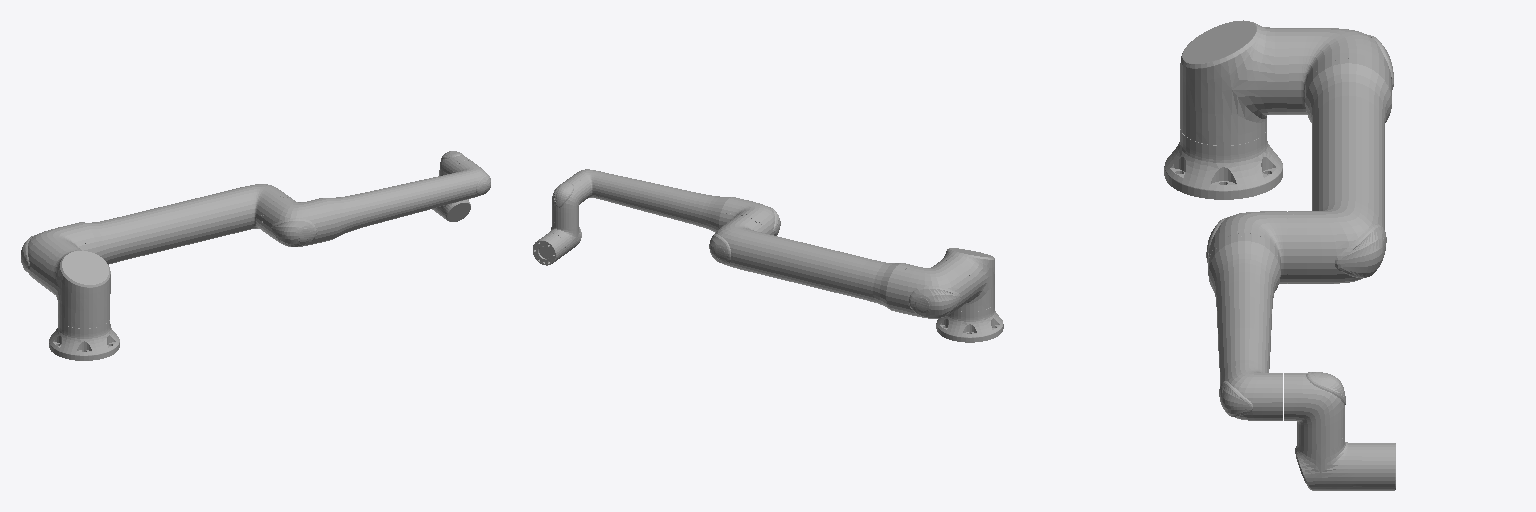
The robot description file, URDF, robot "ur20_robot":
<?xml version="1.0" ?>
<!-- =================================================================================== -->
<!-- |    This document was autogenerated by xacro from ur20.xacro                     | -->
<!-- |    EDITING THIS FILE BY HAND IS NOT RECOMMENDED                                 | -->
<!-- =================================================================================== -->
<robot name="ur20_robot">
  <!--
    Base UR robot series xacro macro.

    NOTE: this is NOT a URDF. It cannot directly be loaded by consumers
    expecting a flattened '.urdf' file. See the top-level '.xacro' for that
    (but note: that .xacro must still be processed by the xacro command).

    For use in '.launch' files: use one of the 'load_urX.launch' convenience
    launch files.

    This file models the base kinematic chain of a UR robot, which then gets
    parameterised by various configuration files to convert it into a UR3(e),
    UR5(e), UR7e, UR10(e), UR12e UR16e, UR15, UR20 or UR30.

    NOTE: the default kinematic parameters (ie: link lengths, frame locations,
    offets, etc) do not correspond to any particular robot. They are defaults
    only. There WILL be non-zero offsets between the Forward Kinematics results
    in TF (ie: robot_state_publisher) and the values reported by the Teach
    Pendant.

    For accurate (and robot-specific) transforms, the 'kinematics_parameters_file'
    parameter MUST point to a .yaml file containing the appropriate values for
    the targetted robot.

    If using the UniversalRobots/Universal_Robots_ROS_Driver, follow the steps
    described in the readme of that repository to extract the kinematic
    calibration from the controller and generate the required .yaml file.

    Main author of the migration to yaml configs: Ludovic Delval.

    Contributors to previous versions (in no particular order):

     - Felix Messmer
     - Kelsey Hawkins
     - Wim Meeussen
     - Shaun Edwards
     - Nadia Hammoudeh Garcia
     - Dave Hershberger
     - G. vd. Hoorn
     - Philip Long
     - Dave Coleman
     - Miguel Prada
     - Mathias Luedtke
     - Marcel Schnirring
     - Felix von Drigalski
     - Felix Exner
     - Jimmy Da Silva
     - Ajit Krisshna N L
     - Muhammad Asif Rana
  -->
  <!--
    NOTE: the macro defined in this file is NOT part of the public API of this
          package. Users CANNOT rely on this file being available, or stored in
          this location. Nor can they rely on the existence of the macro.
  -->
  <transmission name="shoulder_pan_trans">
    <type>transmission_interface/SimpleTransmission</type>
    <joint name="shoulder_pan_joint">
      <hardwareInterface>hardware_interface/PositionJointInterface</hardwareInterface>
    </joint>
    <actuator name="shoulder_pan_motor">
      <mechanicalReduction>1</mechanicalReduction>
    </actuator>
  </transmission>
  <transmission name="shoulder_lift_trans">
    <type>transmission_interface/SimpleTransmission</type>
    <joint name="shoulder_lift_joint">
      <hardwareInterface>hardware_interface/PositionJointInterface</hardwareInterface>
    </joint>
    <actuator name="shoulder_lift_motor">
      <mechanicalReduction>1</mechanicalReduction>
    </actuator>
  </transmission>
  <transmission name="elbow_trans">
    <type>transmission_interface/SimpleTransmission</type>
    <joint name="elbow_joint">
      <hardwareInterface>hardware_interface/PositionJointInterface</hardwareInterface>
    </joint>
    <actuator name="elbow_motor">
      <mechanicalReduction>1</mechanicalReduction>
    </actuator>
  </transmission>
  <transmission name="wrist_1_trans">
    <type>transmission_interface/SimpleTransmission</type>
    <joint name="wrist_1_joint">
      <hardwareInterface>hardware_interface/PositionJointInterface</hardwareInterface>
    </joint>
    <actuator name="wrist_1_motor">
      <mechanicalReduction>1</mechanicalReduction>
    </actuator>
  </transmission>
  <transmission name="wrist_2_trans">
    <type>transmission_interface/SimpleTransmission</type>
    <joint name="wrist_2_joint">
      <hardwareInterface>hardware_interface/PositionJointInterface</hardwareInterface>
    </joint>
    <actuator name="wrist_2_motor">
      <mechanicalReduction>1</mechanicalReduction>
    </actuator>
  </transmission>
  <transmission name="wrist_3_trans">
    <type>transmission_interface/SimpleTransmission</type>
    <joint name="wrist_3_joint">
      <hardwareInterface>hardware_interface/PositionJointInterface</hardwareInterface>
    </joint>
    <actuator name="wrist_3_motor">
      <mechanicalReduction>1</mechanicalReduction>
    </actuator>
  </transmission>
  <!-- links: main serial chain -->
  <link name="base_link"/>
  <link name="base_link_inertia">
    <visual>
      <origin rpy="0 0 3.141592653589793" xyz="0 0 0"/>
      <geometry>
        <mesh filename="package://example-robot-data/robots/universal_robots/meshes_description/ur20/visual/base.dae"/>
      </geometry>
      <material name="LightGrey">
        <color rgba="0.7 0.7 0.7 1.0"/>
      </material>
    </visual>
    <collision>
      <origin rpy="0 0 3.141592653589793" xyz="0 0 0"/>
      <geometry>
        <mesh filename="package://example-robot-data/robots/universal_robots/meshes_description/ur20/collision/base.stl"/>
      </geometry>
    </collision>
    <inertial>
      <mass value="4.0"/>
      <origin rpy="0 0 0" xyz="0 0 0"/>
      <inertia ixx="0.0061063308908" ixy="0.0" ixz="0.0" iyy="0.0061063308908" iyz="0.0" izz="0.01125"/>
    </inertial>
  </link>
  <link name="shoulder_link">
    <visual>
      <origin rpy="0 0 3.141592653589793" xyz="0 0 0"/>
      <geometry>
        <mesh filename="package://example-robot-data/robots/universal_robots/meshes_description/ur20/visual/shoulder.dae"/>
      </geometry>
      <material name="LightGrey">
        <color rgba="0.7 0.7 0.7 1.0"/>
      </material>
    </visual>
    <collision>
      <origin rpy="0 0 3.141592653589793" xyz="0 0 0"/>
      <geometry>
        <mesh filename="package://example-robot-data/robots/universal_robots/meshes_description/ur20/collision/shoulder.stl"/>
      </geometry>
    </collision>
    <inertial>
      <mass value="16.343"/>
      <origin rpy="1.570796326794897 0 0" xyz="0.0 -0.0062 -0.061"/>
      <inertia ixx="0.08866" ixy="-0.00011" ixz="-0.00011" iyy="0.07632" iyz="0.0072" izz="0.08418"/>
    </inertial>
  </link>
  <link name="upper_arm_link">
    <visual>
      <origin rpy="1.5707963267948966 0 -1.5707963267948966" xyz="0 0 0.26"/>
      <geometry>
        <mesh filename="package://example-robot-data/robots/universal_robots/meshes_description/ur20/visual/upperarm.dae"/>
      </geometry>
      <material name="LightGrey">
        <color rgba="0.7 0.7 0.7 1.0"/>
      </material>
    </visual>
    <collision>
      <origin rpy="1.5707963267948966 0 -1.5707963267948966" xyz="0 0 0.26"/>
      <geometry>
        <mesh filename="package://example-robot-data/robots/universal_robots/meshes_description/ur20/collision/upperarm.stl"/>
      </geometry>
    </collision>
    <inertial>
      <mass value="29.632"/>
      <origin rpy="0 0 0" xyz="-0.3394 0.0 0.2098"/>
      <inertia ixx="0.1467" ixy="0.00019" ixz="-0.05163" iyy="4.6659" iyz="4e-05" izz="4.6348"/>
    </inertial>
  </link>
  <link name="forearm_link">
    <visual>
      <origin rpy="1.5707963267948966 0 -1.5707963267948966" xyz="0 0 0.043"/>
      <geometry>
        <mesh filename="package://example-robot-data/robots/universal_robots/meshes_description/ur20/visual/forearm.dae"/>
      </geometry>
      <material name="LightGrey">
        <color rgba="0.7 0.7 0.7 1.0"/>
      </material>
    </visual>
    <collision>
      <origin rpy="1.5707963267948966 0 -1.5707963267948966" xyz="0 0 0.043"/>
      <geometry>
        <mesh filename="package://example-robot-data/robots/universal_robots/meshes_description/ur20/collision/forearm.stl"/>
      </geometry>
    </collision>
    <inertial>
      <mass value="7.879"/>
      <origin rpy="0 0 0" xyz="-0.4053 0.0 0.0604"/>
      <inertia ixx="0.02612" ixy="-5e-05" ixz="-0.02898" iyy="0.75763" iyz="-1e-05" izz="0.75327"/>
    </inertial>
  </link>
  <link name="wrist_1_link">
    <visual>
      <!-- TODO: Move this to a parameter -->
      <origin rpy="1.5707963267948966 0 0" xyz="0 0 -0.0775"/>
      <geometry>
        <mesh filename="package://example-robot-data/robots/universal_robots/meshes_description/ur20/visual/wrist1.dae"/>
      </geometry>
      <material name="LightGrey">
        <color rgba="0.7 0.7 0.7 1.0"/>
      </material>
    </visual>
    <collision>
      <origin rpy="1.5707963267948966 0 0" xyz="0 0 -0.0775"/>
      <geometry>
        <mesh filename="package://example-robot-data/robots/universal_robots/meshes_description/ur20/collision/wrist1.stl"/>
      </geometry>
    </collision>
    <inertial>
      <mass value="3.054"/>
      <origin rpy="1.570796326794897 0 0" xyz="0.0 -0.0393 -0.0026"/>
      <inertia ixx="0.00555" ixy="-1e-05" ixz="-2e-05" iyy="0.00537" iyz="0.00036" izz="0.00402"/>
    </inertial>
  </link>
  <link name="wrist_2_link">
    <visual>
      <origin rpy="0 0 0" xyz="0 0 -0.0749"/>
      <geometry>
        <mesh filename="package://example-robot-data/robots/universal_robots/meshes_description/ur20/visual/wrist2.dae"/>
      </geometry>
      <material name="LightGrey">
        <color rgba="0.7 0.7 0.7 1.0"/>
      </material>
    </visual>
    <collision>
      <origin rpy="0 0 0" xyz="0 0 -0.0749"/>
      <geometry>
        <mesh filename="package://example-robot-data/robots/universal_robots/meshes_description/ur20/collision/wrist2.stl"/>
      </geometry>
    </collision>
    <inertial>
      <mass value="3.126"/>
      <origin rpy="-1.570796326794897 0 0" xyz="0.0 0.0379 -0.0024"/>
      <inertia ixx="0.00586" ixy="-1e-05" ixz="-2e-05" iyy="0.00578" iyz="-0.00037" izz="0.00427"/>
    </inertial>
  </link>
  <link name="wrist_3_link">
    <visual>
      <origin rpy="1.5707963267948966 0 0" xyz="0 0 -0.07"/>
      <geometry>
        <mesh filename="package://example-robot-data/robots/universal_robots/meshes_description/ur20/visual/wrist3.dae"/>
      </geometry>
      <material name="LightGrey">
        <color rgba="0.7 0.7 0.7 1.0"/>
      </material>
    </visual>
    <collision>
      <origin rpy="1.5707963267948966 0 0" xyz="0 0 -0.07"/>
      <geometry>
        <mesh filename="package://example-robot-data/robots/universal_robots/meshes_description/ur20/collision/wrist3.stl"/>
      </geometry>
    </collision>
    <inertial>
      <mass value="0.926"/>
      <origin rpy="0 0 0" xyz="0.0 0.0 -0.0293"/>
      <inertia ixx="0.00092" ixy="0.0" ixz="0.0" iyy="0.00091" iyz="0.0" izz="0.00117"/>
    </inertial>
  </link>
  <!-- joints: main serial chain -->
  <joint name="base_link-base_link_inertia" type="fixed">
    <parent link="base_link"/>
    <child link="base_link_inertia"/>
    <!-- 'base_link' is REP-103 aligned (so X+ forward), while the internal
           frames of the robot/controller have X+ pointing backwards.
           Use the joint between 'base_link' and 'base_link_inertia' (a dummy
           link/frame) to introduce the necessary rotation over Z (of pi rad).
      -->
    <origin rpy="0 0 3.141592653589793" xyz="0 0 0"/>
  </joint>
  <joint name="shoulder_pan_joint" type="revolute">
    <parent link="base_link_inertia"/>
    <child link="shoulder_link"/>
    <origin rpy="0 0 0" xyz="0 0 0.2363"/>
    <axis xyz="0 0 1"/>
    <limit effort="738.0" lower="-6.283185307179586" upper="6.283185307179586" velocity="2.0943951023931953"/>
    <dynamics damping="0" friction="0"/>
  </joint>
  <joint name="shoulder_lift_joint" type="revolute">
    <parent link="shoulder_link"/>
    <child link="upper_arm_link"/>
    <origin rpy="1.570796327 0 0" xyz="0 0 0"/>
    <axis xyz="0 0 1"/>
    <limit effort="738.0" lower="-6.283185307179586" upper="6.283185307179586" velocity="2.0943951023931953"/>
    <dynamics damping="0" friction="0"/>
  </joint>
  <joint name="elbow_joint" type="revolute">
    <parent link="upper_arm_link"/>
    <child link="forearm_link"/>
    <origin rpy="0 0 0" xyz="-0.862 0 0"/>
    <axis xyz="0 0 1"/>
    <limit effort="433.0" lower="-3.141592653589793" upper="3.141592653589793" velocity="2.6179938779914944"/>
    <dynamics damping="0" friction="0"/>
  </joint>
  <joint name="wrist_1_joint" type="revolute">
    <parent link="forearm_link"/>
    <child link="wrist_1_link"/>
    <origin rpy="0 0 0" xyz="-0.7287 0 0.201"/>
    <axis xyz="0 0 1"/>
    <limit effort="107.0" lower="-6.283185307179586" upper="6.283185307179586" velocity="3.6651914291880923"/>
    <dynamics damping="0" friction="0"/>
  </joint>
  <joint name="wrist_2_joint" type="revolute">
    <parent link="wrist_1_link"/>
    <child link="wrist_2_link"/>
    <origin rpy="1.570796327 0 0" xyz="0 -0.1593 -3.267297616249225e-11"/>
    <axis xyz="0 0 1"/>
    <limit effort="107.0" lower="-6.283185307179586" upper="6.283185307179586" velocity="3.6651914291880923"/>
    <dynamics damping="0" friction="0"/>
  </joint>
  <joint name="wrist_3_joint" type="revolute">
    <parent link="wrist_2_link"/>
    <child link="wrist_3_link"/>
    <origin rpy="1.570796326589793 3.141592653589793 3.141592653589793" xyz="0 0.1543 -3.1647459019915597e-11"/>
    <axis xyz="0 0 1"/>
    <limit effort="107.0" lower="-6.283185307179586" upper="6.283185307179586" velocity="3.6651914291880923"/>
    <dynamics damping="0" friction="0"/>
  </joint>
  <!-- ROS-Industrial 'base' frame: base_link to UR 'Base' Coordinates transform -->
  <link name="base"/>
  <joint name="base_link-base_fixed_joint" type="fixed">
    <!-- Note the rotation over Z of pi radians: as base_link is REP-103
           aligned (ie: has X+ forward, Y+ left and Z+ up), this is needed
           to correctly align 'base' with the 'Base' coordinate system of
           the UR controller.
      -->
    <origin rpy="0 0 3.141592653589793" xyz="0 0 0"/>
    <parent link="base_link"/>
    <child link="base"/>
  </joint>
  <!-- ROS-Industrial 'flange' frame: attachment point for EEF models -->
  <link name="flange"/>
  <joint name="wrist_3-flange" type="fixed">
    <parent link="wrist_3_link"/>
    <child link="flange"/>
    <origin rpy="0 -1.5707963267948966 -1.5707963267948966" xyz="0 0 0"/>
  </joint>
  <!-- ROS-Industrial 'tool0' frame: all-zeros tool frame -->
  <link name="tool0"/>
  <joint name="flange-tool0" type="fixed">
    <!-- default toolframe: X+ left, Y+ up, Z+ front -->
    <origin rpy="1.5707963267948966 0 1.5707963267948966" xyz="0 0 0"/>
    <parent link="flange"/>
    <child link="tool0"/>
  </joint>
</robot>

--- What the picture shows (computed from the rendered views, not written in the file) ---
Views: 3 orthographic renders of the robot side by side, from view 1: azimuth 30°, elevation 25°; view 2: azimuth 150°, elevation 25°; view 3: azimuth 270°, elevation 25°.
Model ur20_robot with 11 links and 10 joints (6 revolute, 4 fixed), rooted at base_link, posed all joints at 0.
Links seen in each view (by area): view 1: upper_arm_link, forearm_link, shoulder_link, base_link_inertia, wrist_2_link; view 2: upper_arm_link, forearm_link, shoulder_link, base_link_inertia, wrist_1_link, wrist_3_link, wrist_2_link; view 3: upper_arm_link, forearm_link, shoulder_link, base_link_inertia, wrist_1_link, wrist_2_link, wrist_3_link.
Boxes of the visible links, x1,y1,x2,y2 form: upper_arm_link: [21, 184, 290, 288]; forearm_link: [261, 160, 490, 246]; shoulder_link: [42, 246, 110, 328]; base_link_inertia: [49, 318, 119, 360]; wrist_2_link: [432, 199, 470, 221]; upper_arm_link: [709, 215, 972, 318]; forearm_link: [570, 169, 780, 235]; shoulder_link: [938, 248, 994, 311]; base_link_inertia: [936, 302, 1003, 342]; wrist_1_link: [552, 178, 587, 224]; wrist_3_link: [533, 233, 565, 265]; wrist_2_link: [548, 220, 581, 255]; upper_arm_link: [1286, 28, 1393, 283]; forearm_link: [1206, 211, 1294, 420]; shoulder_link: [1180, 20, 1288, 145]; base_link_inertia: [1164, 129, 1282, 199]; wrist_1_link: [1284, 372, 1345, 443]; wrist_2_link: [1295, 436, 1361, 490]; wrist_3_link: [1362, 443, 1395, 490].
Size in the robot's own frame: 1.77 by 0.4775 by 0.333 metres.
7 mesh visuals loaded from 7 distinct referenced files (7 Collada DAE).
